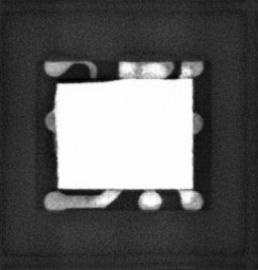DIE_BROKEN: (55, 75, 126, 85)
